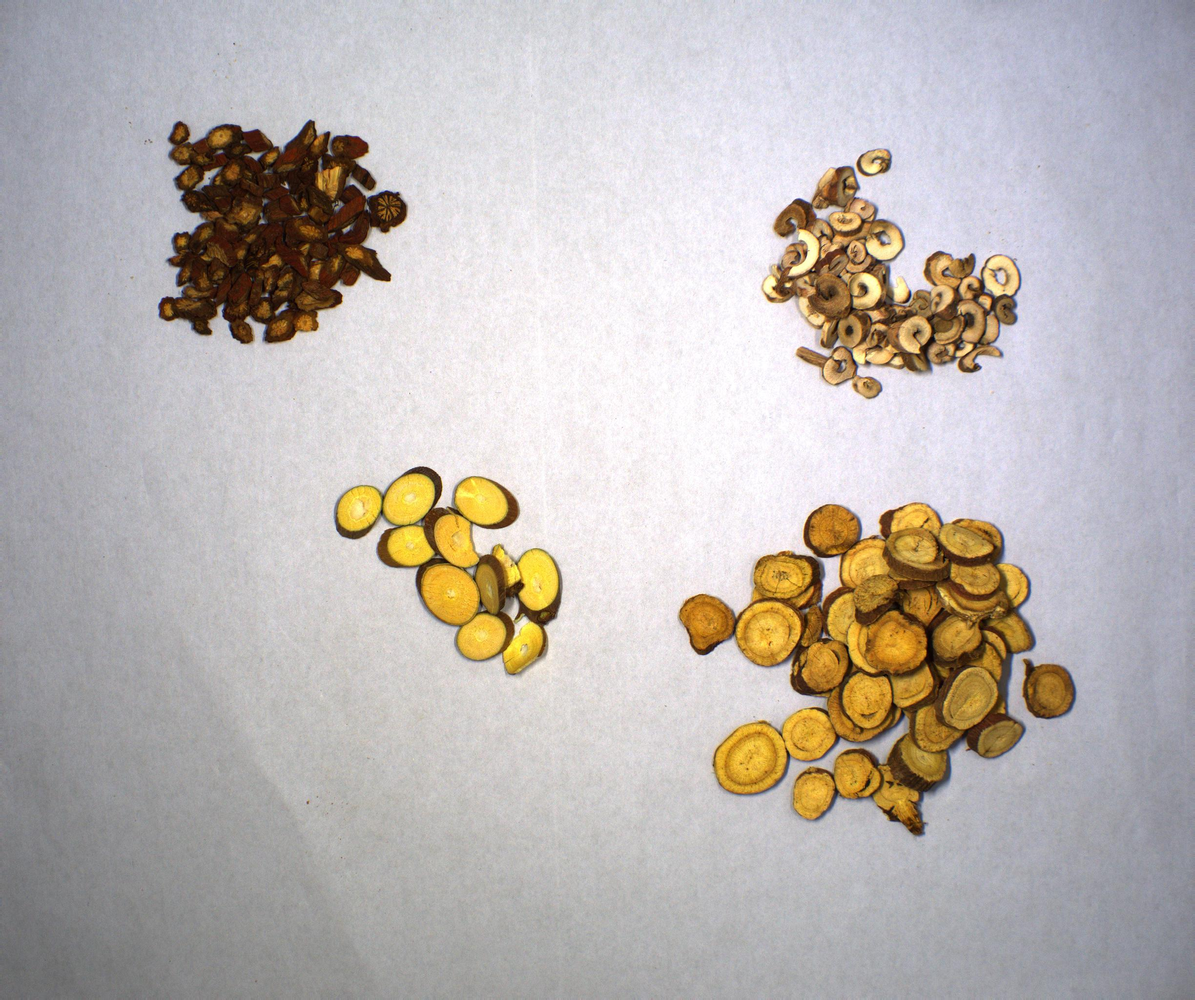danshen: (148, 115, 409, 350)
gancao: (683, 496, 1079, 839)
mudanpi: (762, 146, 1023, 399)
sangzhi: (332, 460, 560, 673)
